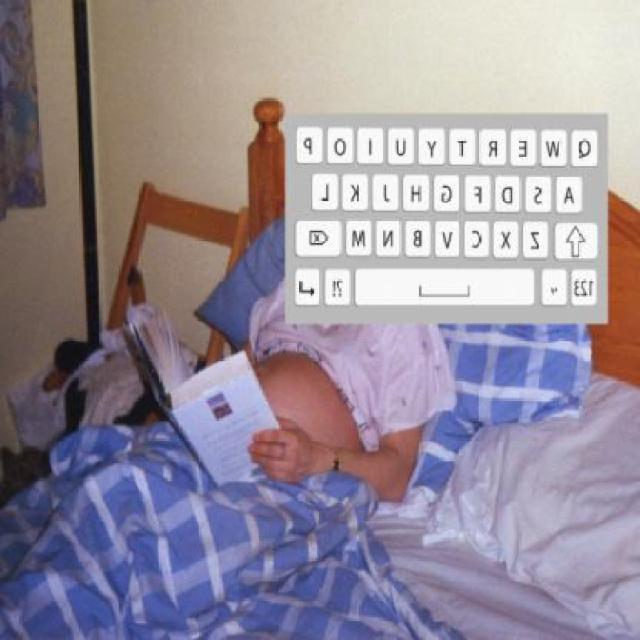keyboard: (270, 112, 612, 331)
